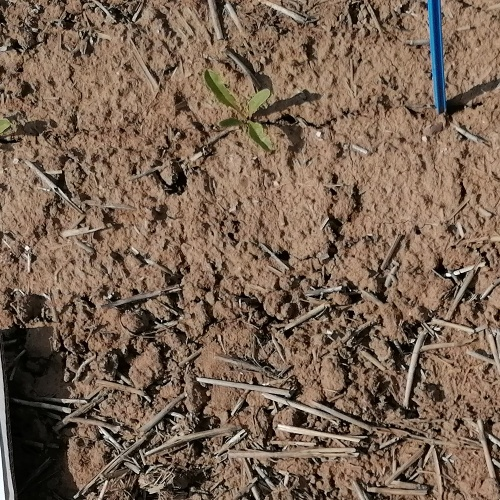beet: (204, 69, 274, 151)
